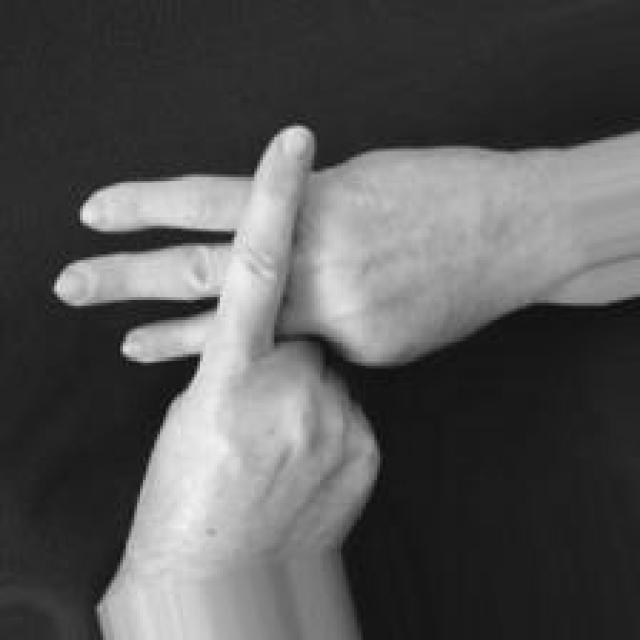E: (39, 121, 483, 538)
